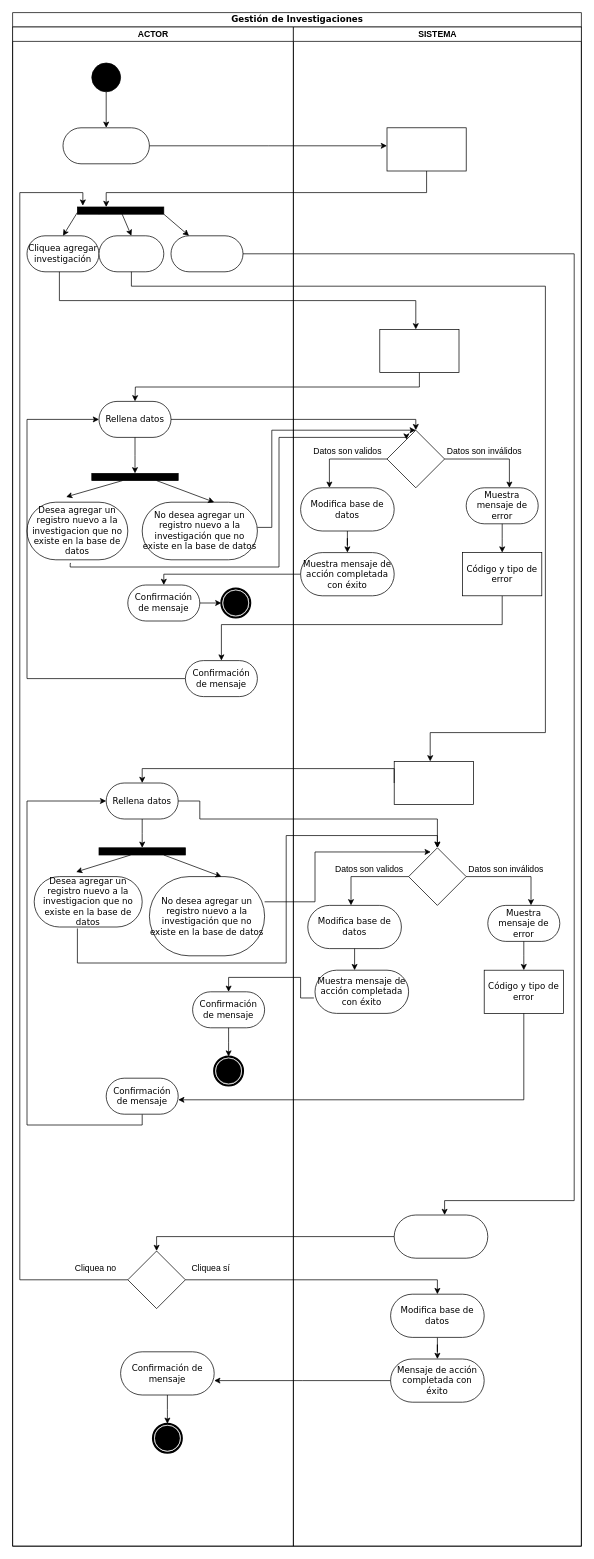
Some shapes in this 594 by 1559 pixel diagram are drawn without their labels. Each missing label, with the centre of its shape:
"Cliquea editar investigación" goes at [131,253].
"Cliquea eliminar investigación" goes at [206,253].
"Cliquea gestión de investigaciones" goes at [105,145].
"Formulario de agregar investigación" goes at [419,351].
"Formulario de editar investigación" goes at [433,783].
"Mensaje de confirmación" goes at [440,1236].
"Menú gestión de investigaciones" goes at [426,149].
